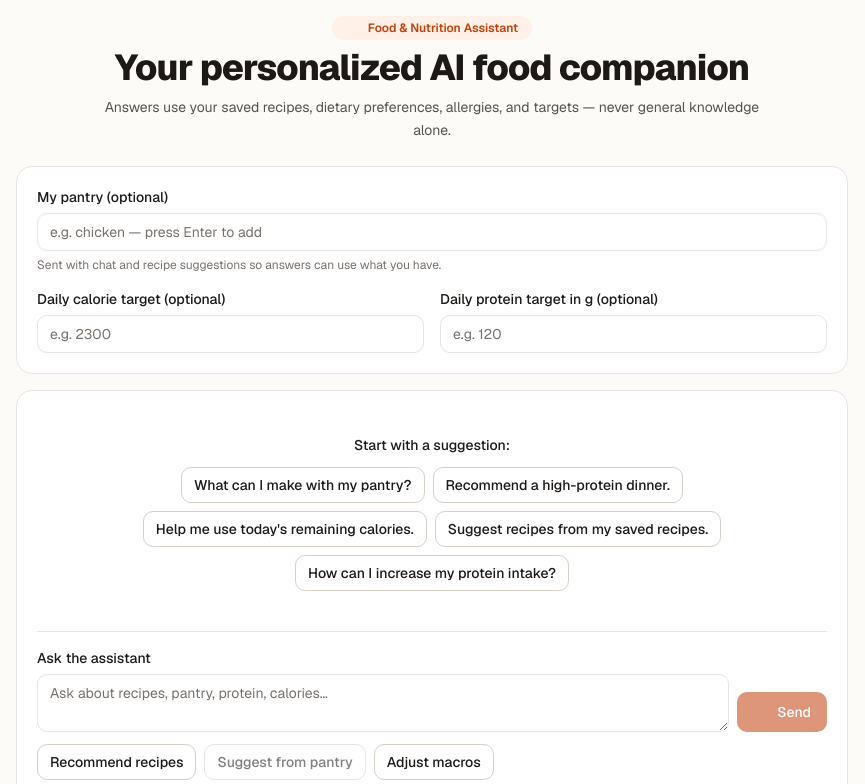
Test case: AssistantPage — Food & Nutrition AI Assistant › sends a message and renders the assistant reply
Type "Recommend a high-protein dinner." into the text box labelled "Ask the assistant" at (383, 702), box [37,674,729,732]
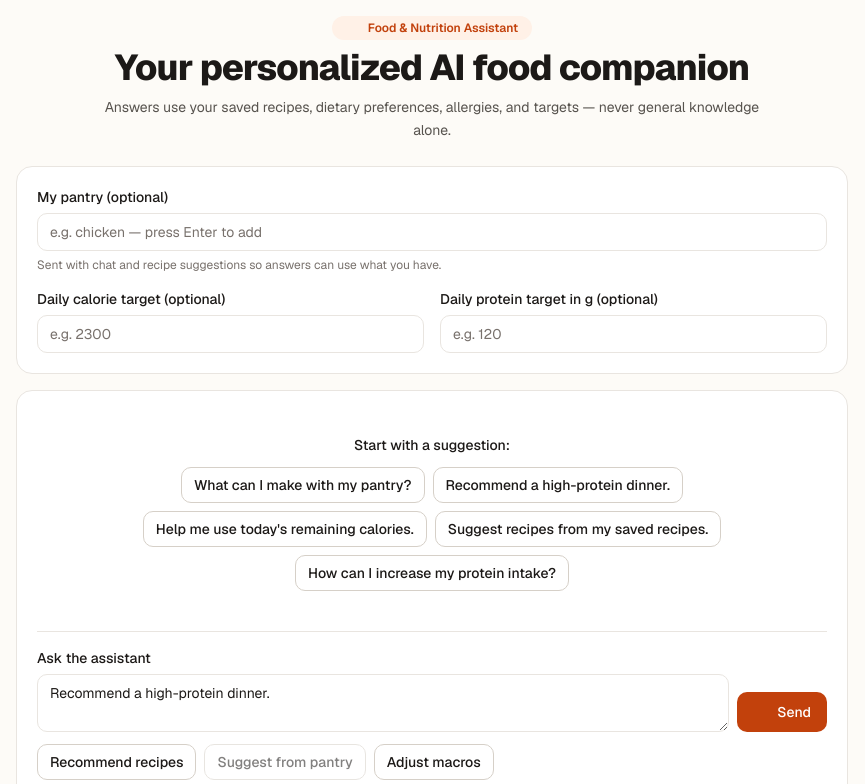
Click the button with aria-label "Send message" at (782, 712), box [737,692,827,732]
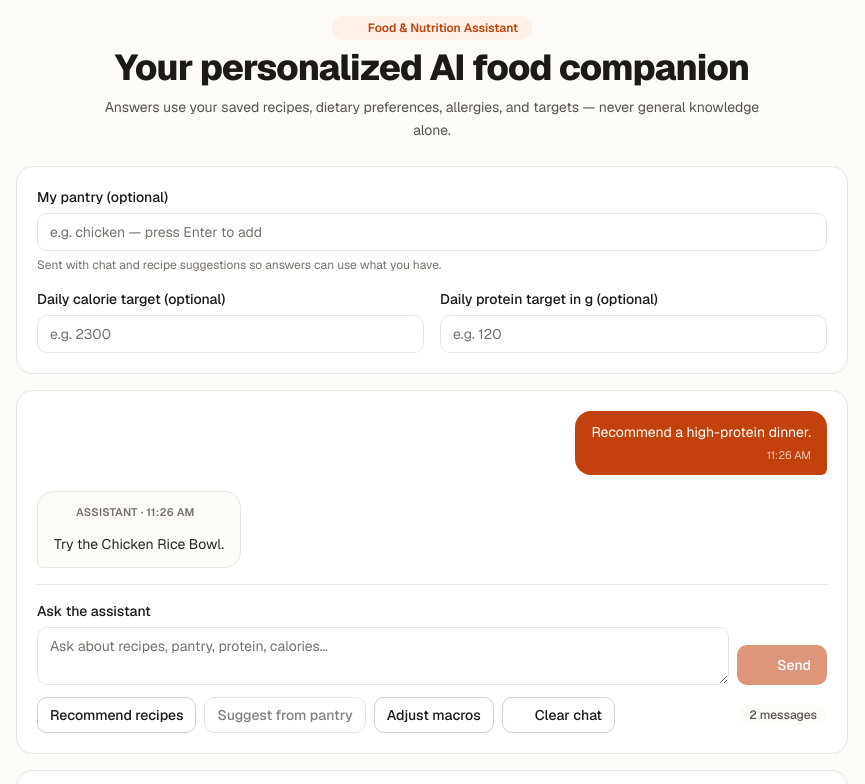
Expected: the text "Recommend a high-protein dinner." is shown, [591,420,811,443]
Expected: the text "Try the Chicken Rice Bowl." is shown, [54,533,224,555]
